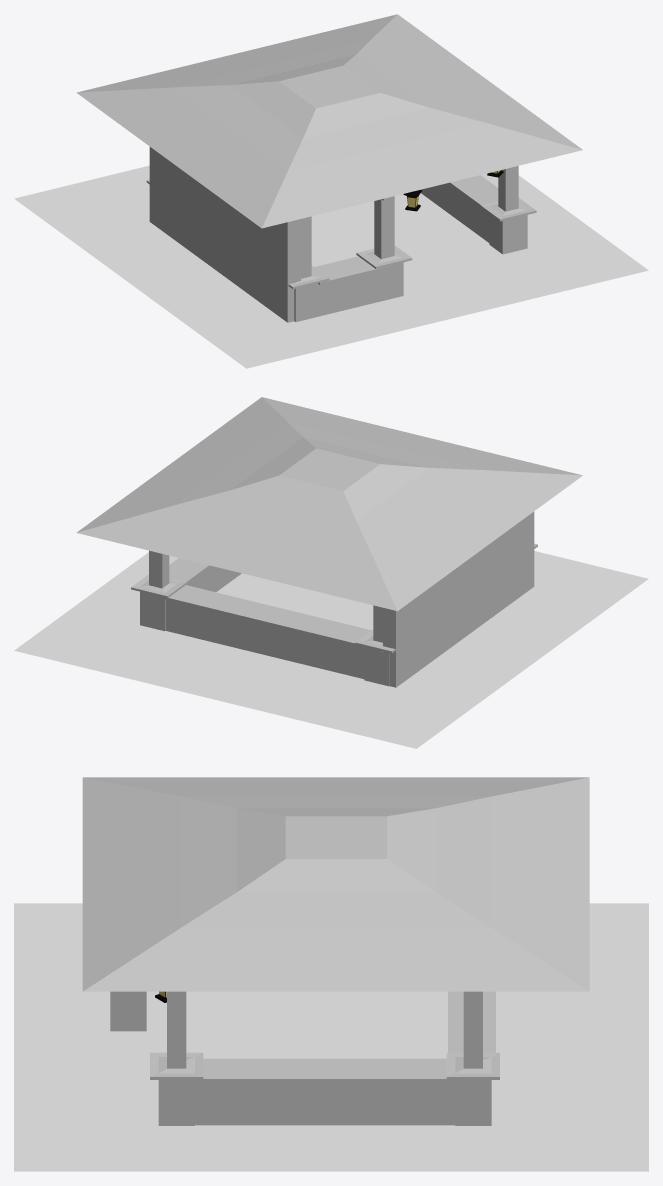
The picture shows the model from 3 angles, top to bottom: view 1: azimuth 30°, elevation 25°; view 2: azimuth 150°, elevation 25°; view 3: azimuth 270°, elevation 25°; orthographic projection. The views are drawn at different scales.
Visible parts, largest first — view 1: Roof, Plane, BackWall, Counter.005, FloorPillar.002, FloorPillar.005, Counter.002, FloorPillar.001; view 2: Roof, Plane, BackWall, Counter.003, FloorPillar.003, FloorPillar.004, Counter.002; view 3: Roof, Plane, Counter.002, FloorPillar.002, FloorPillar.003, Counter.003, FloorPillar.005.
Boxes of the visible parts, x1=… form: Roof: x1=76, y1=14, x2=582, y2=228; Plane: x1=14, y1=165, x2=648, y2=368; BackWall: x1=149, y1=147, x2=300, y2=322; Counter.005: x1=314, y1=256, x2=391, y2=315; FloorPillar.002: x1=480, y1=166, x2=536, y2=254; FloorPillar.005: x1=356, y1=196, x2=412, y2=301; Counter.002: x1=420, y1=175, x2=498, y2=242; FloorPillar.001: x1=288, y1=216, x2=329, y2=321; Roof: x1=76, y1=397, x2=582, y2=611; Plane: x1=14, y1=551, x2=648, y2=748; BackWall: x1=383, y1=511, x2=534, y2=687; Counter.003: x1=160, y1=585, x2=382, y2=678; FloorPillar.003: x1=131, y1=550, x2=186, y2=631; FloorPillar.004: x1=355, y1=605, x2=395, y2=686; Counter.002: x1=169, y1=558, x2=241, y2=592; Roof: x1=82, y1=777, x2=589, y2=991; Plane: x1=14, y1=903, x2=648, y2=1171; Counter.002: x1=182, y1=1058, x2=478, y2=1125; FloorPillar.002: x1=150, y1=991, x2=203, y2=1125; FloorPillar.003: x1=446, y1=991, x2=499, y2=1125; Counter.003: x1=448, y1=991, x2=495, y2=1052; FloorPillar.005: x1=110, y1=991, x2=146, y2=1031.
Bounding box in the file's own units: 330 × 116 × 330.
